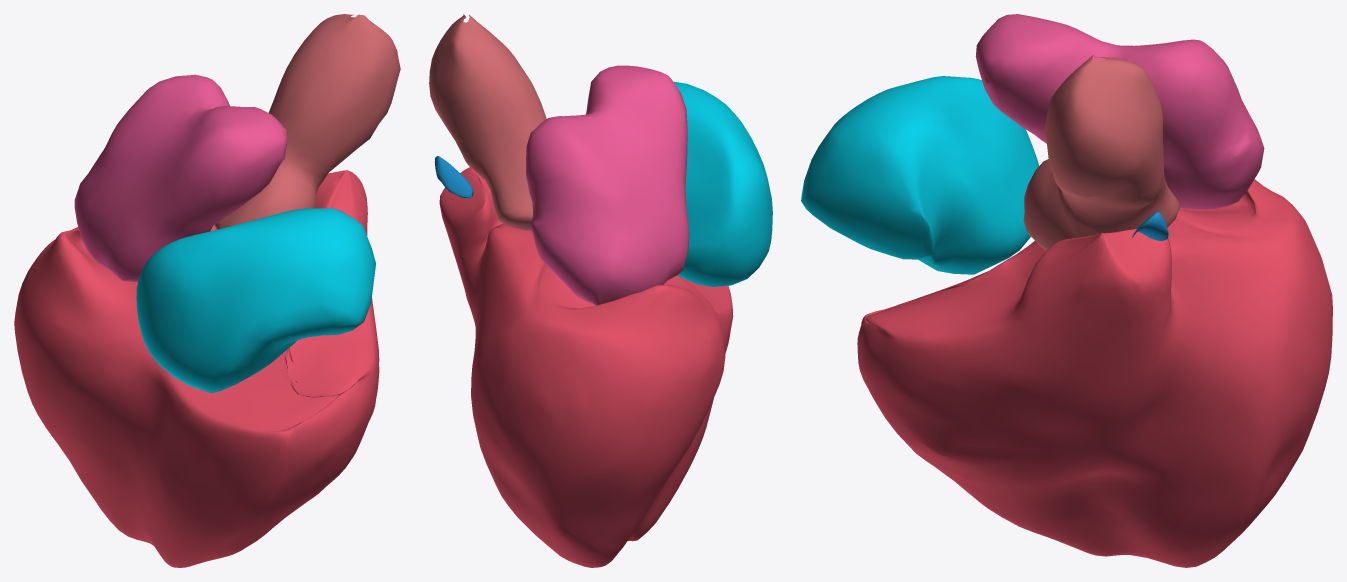
File: frame_26.glb
3 renders of one model, left to right at view 1: azimuth 30°, elevation 25°; view 2: azimuth 150°, elevation 25°; view 3: azimuth 270°, elevation 25°, orthographic. The views are drawn at different scales.
Visible parts, largest first — view 1: Renderer Node; view 2: Renderer Node; view 3: Renderer Node.
Part boxes in pixels (box(x1,y1,x2,y2)): Renderer Node: box(14, 14, 400, 567); Renderer Node: box(429, 14, 772, 567); Renderer Node: box(801, 14, 1332, 567).
Size of the model in its own units: 102 by 154 by 123.
